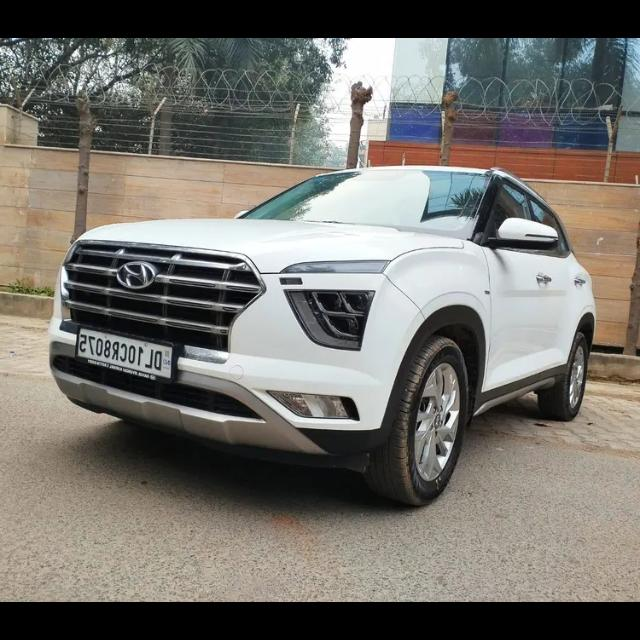number-plate: (78, 329, 175, 378)
vehicles: (58, 167, 594, 500)
